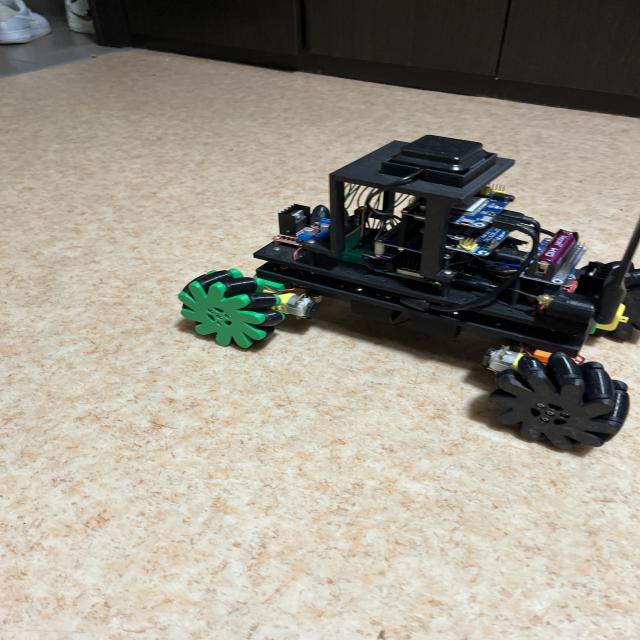robot: (179, 135, 640, 449)
